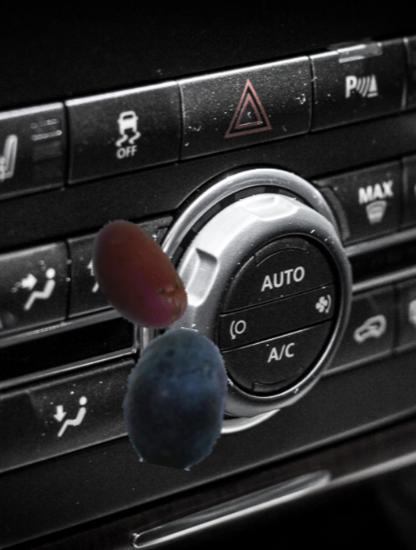Blueberry: (106, 327, 246, 467)
Potato: (75, 214, 199, 338)
